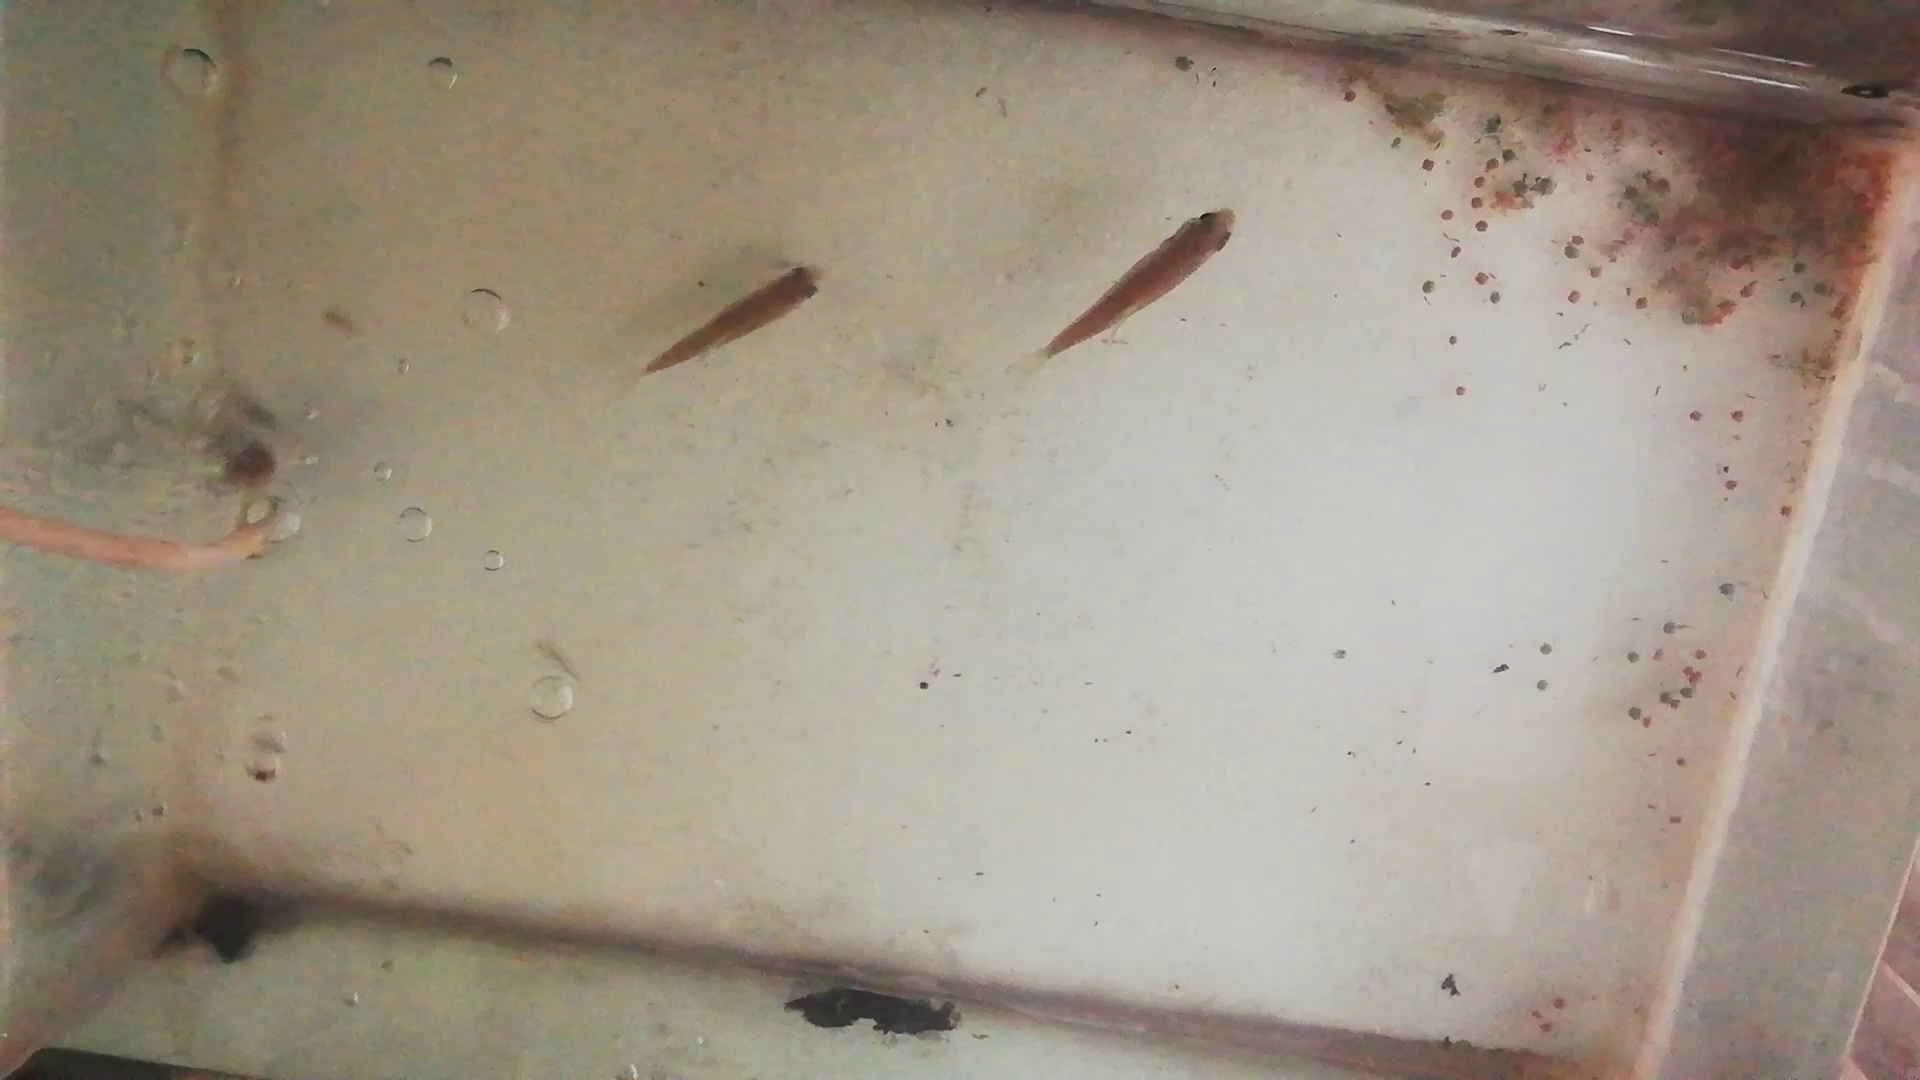fish: (1042, 204, 1244, 353), (644, 262, 833, 373)
